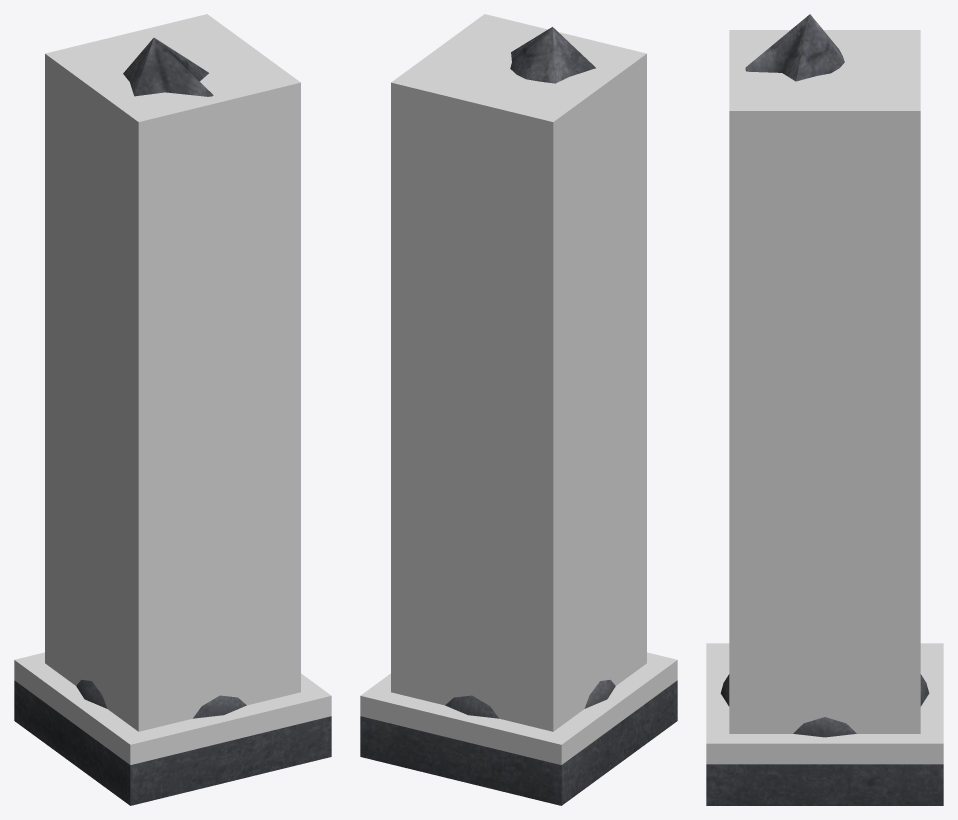
File: column_ruin.low.webp.glb
The picture shows the model from 3 angles, left to right: view 1: azimuth 30°, elevation 25°; view 2: azimuth 150°, elevation 25°; view 3: azimuth 270°, elevation 25°; orthographic projection. The views are drawn at different scales.
Visible parts, largest first — view 1: COL, FRAC_3.L1, FRAC_2.L1, FRAC_4.L1; view 2: COL, FRAC_4.L1, FRAC_3.L1, FRAC_2.L1; view 3: COL, FRAC_4.L1, FRAC_2.L1, FRAC_3.L1.
Boxes of the visible parts, x1,y1,x2,y2 form: COL: (14,14,331,764); FRAC_3.L1: (34,679,331,805); FRAC_2.L1: (123,37,213,96); FRAC_4.L1: (14,680,35,736); COL: (360,14,677,764); FRAC_4.L1: (360,695,582,805); FRAC_3.L1: (581,679,677,789); FRAC_2.L1: (510,27,595,83); COL: (706,30,943,764); FRAC_4.L1: (724,674,943,805); FRAC_2.L1: (745,14,844,81); FRAC_3.L1: (706,674,729,805).
Size of what is drawn, in the model's own units: 1.24 by 4.2 by 1.24.
Materials: 1 (1 with a texture image).
